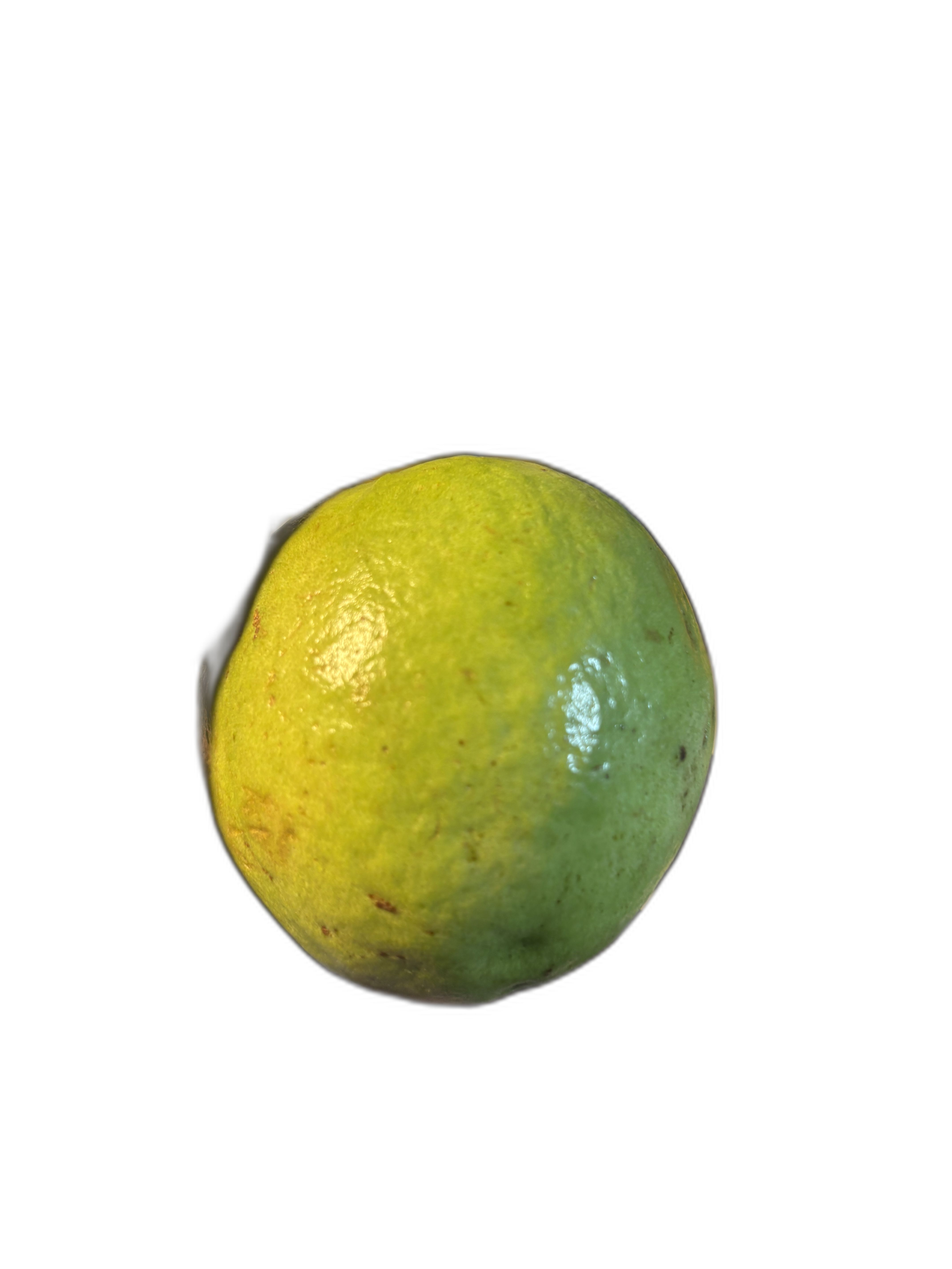guava: (204, 183, 918, 1110)
